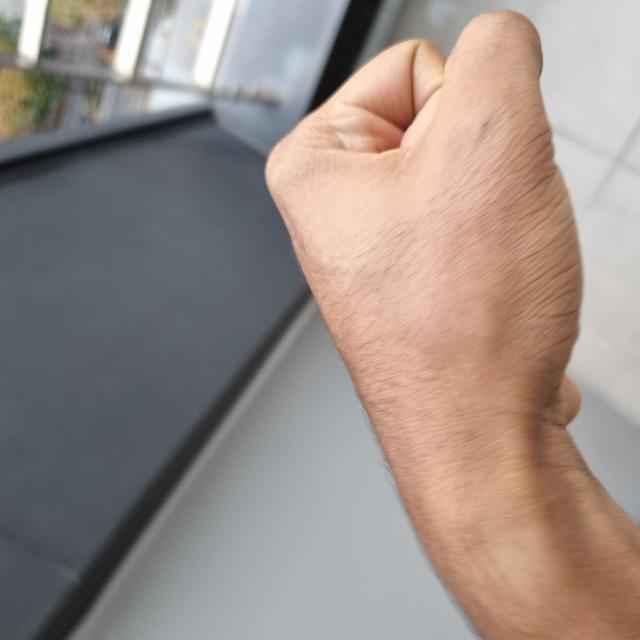Rock: (103, 266, 633, 583)
